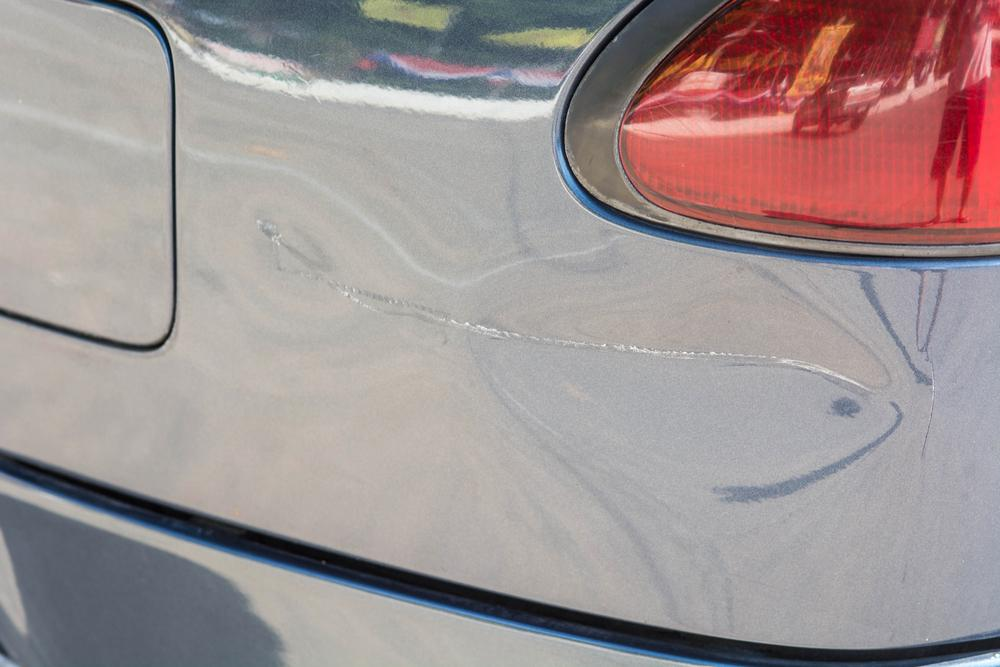dent: (212, 184, 892, 516)
